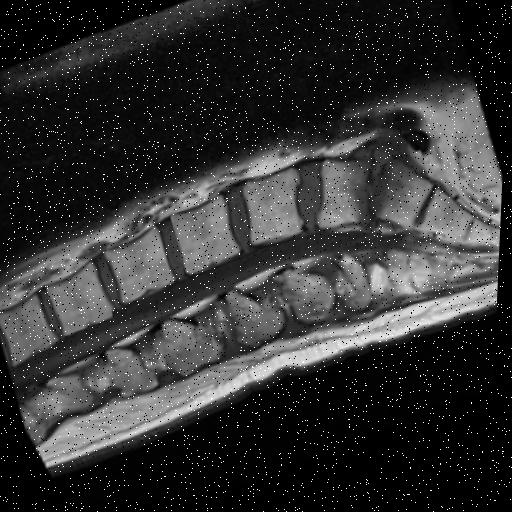L1: (49, 263, 115, 335)
L2: (108, 228, 176, 303)
L3: (175, 198, 241, 275)
L4: (246, 172, 305, 248)
L5: (321, 164, 376, 231)
S1: (376, 164, 434, 233)
